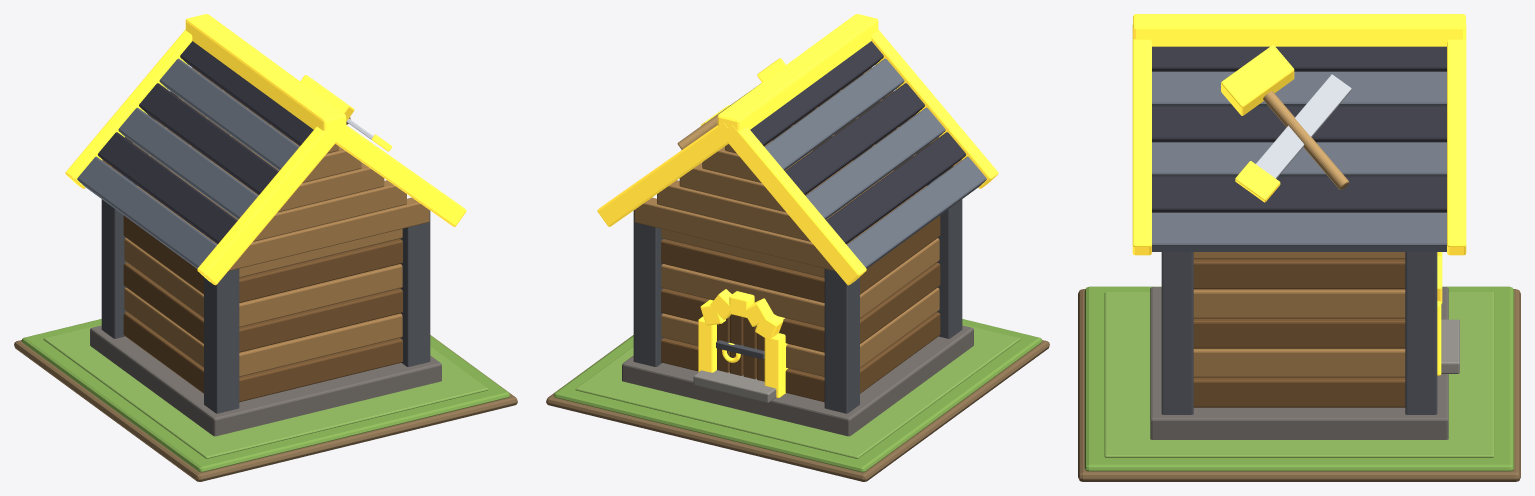
Rendered from builder_barracks_lv7.glb.
3 views of the same model, side by side, from view 1: azimuth 30°, elevation 25°; view 2: azimuth 150°, elevation 25°; view 3: azimuth 270°, elevation 25° (orthographic). The views are drawn at different scales.
Visible parts, largest first — view 1: Base_Inner, BB_Foundation, Base_Grass, WallPlank_0, WallPlank_2, WallPlank_3, WallPlank_1, WallPlank_4, RidgeBeam, Base_Dirt, Bargeboard_-1_-1, BB_CornerPost_-1_-1 (+16 smaller); view 2: Base_Inner, BB_Foundation, Base_Grass, WallPlank_4, RidgeBeam, WallPlank_3, Base_Dirt, Bargeboard_1_-1, BB_CornerPost_-1_1, RoofSlope_-1_1, RoofSlope_-1_2, RoofSlope_-1_5 (+20 smaller); view 3: Base_Inner, Base_Grass, RoofSlope_1_5, BB_Foundation, RidgeBeam, RoofSlope_1_4, RoofSlope_1_2, RoofSlope_1_3, RoofSlope_1_1, Base_Dirt, RoofSlope_1_0, WallPlank_0 (+14 smaller).
Boxes of the visible parts, box(x1,y1,x2,y2) form: Base_Inner: box(43, 324, 488, 458); BB_Foundation: box(90, 325, 441, 436); Base_Grass: box(21, 319, 510, 472); WallPlank_0: box(123, 312, 402, 402); WallPlank_2: box(123, 262, 402, 352); WallPlank_3: box(124, 238, 402, 327); WallPlank_1: box(124, 287, 402, 376); WallPlank_4: box(123, 215, 402, 302); RidgeBeam: box(185, 14, 346, 130); Base_Dirt: box(14, 335, 517, 481); Bargeboard_-1_-1: box(197, 125, 340, 285); BB_CornerPost_-1_-1: box(204, 269, 239, 413); Base_Inner: box(575, 324, 1020, 458); BB_Foundation: box(622, 325, 973, 436); Base_Grass: box(553, 319, 1042, 472); WallPlank_4: box(661, 215, 940, 302); RidgeBeam: box(717, 14, 878, 130); WallPlank_3: box(661, 238, 939, 327); Base_Dirt: box(546, 335, 1049, 481); Bargeboard_1_-1: box(723, 125, 866, 285); BB_CornerPost_-1_1: box(824, 269, 859, 413); RoofSlope_-1_1: box(764, 58, 904, 170); RoofSlope_-1_2: box(785, 83, 924, 194); RoofSlope_-1_5: box(847, 156, 986, 268); Base_Inner: box(1104, 292, 1494, 457); Base_Grass: box(1084, 286, 1514, 471); RoofSlope_1_5: box(1152, 212, 1446, 251); BB_Foundation: box(1150, 287, 1448, 439); RidgeBeam: box(1133, 14, 1465, 46); RoofSlope_1_4: box(1152, 177, 1446, 212); RoofSlope_1_2: box(1152, 107, 1446, 142); RoofSlope_1_3: box(1152, 142, 1446, 177); RoofSlope_1_1: box(1152, 71, 1446, 106); Base_Dirt: box(1078, 289, 1520, 481); RoofSlope_1_0: box(1152, 46, 1446, 71); WallPlank_0: box(1193, 377, 1405, 407).
Bounding box in the file's own units: 2.76 × 2.55 × 2.76.
